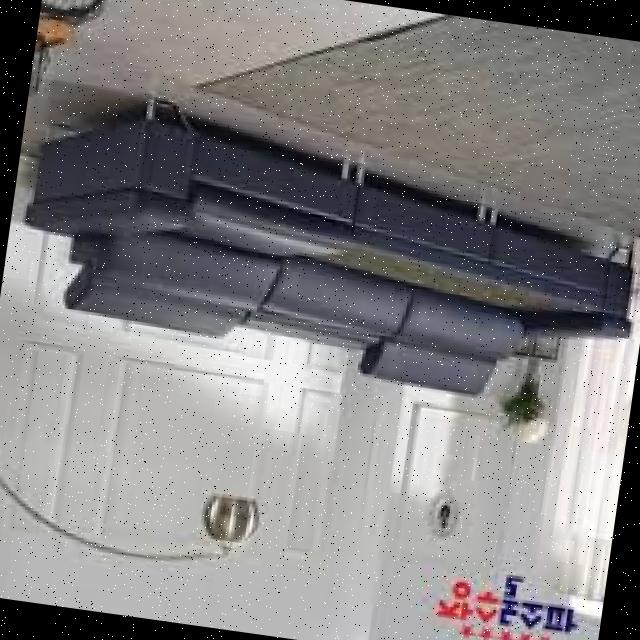Sofa: (0, 54, 640, 442)
